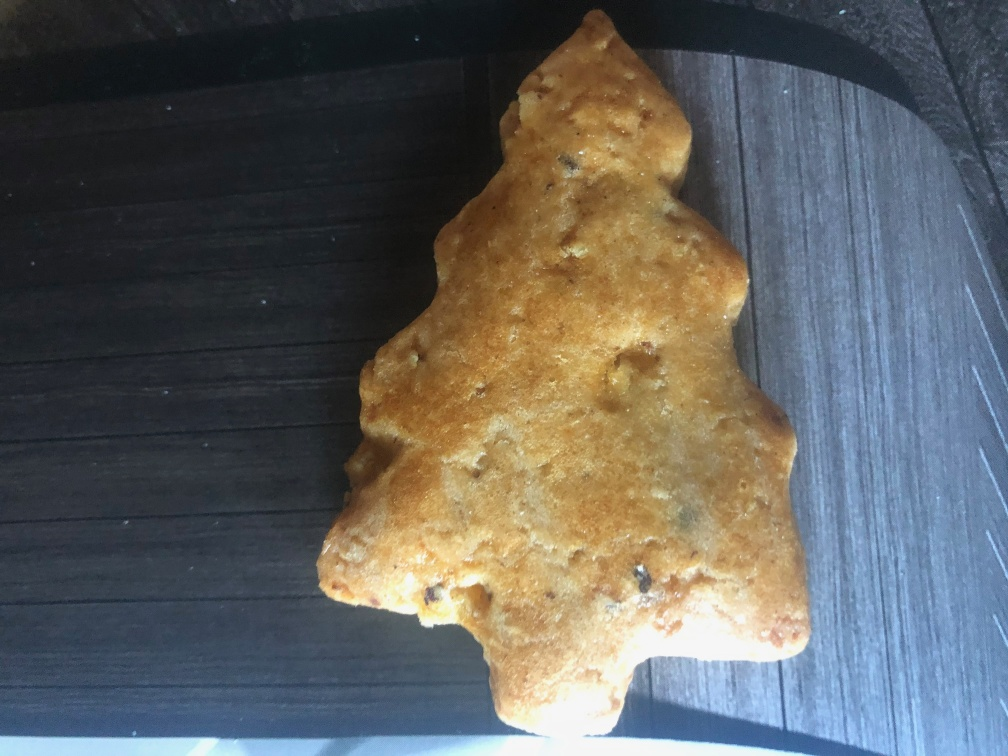christmas tree: (311, 10, 821, 756)
